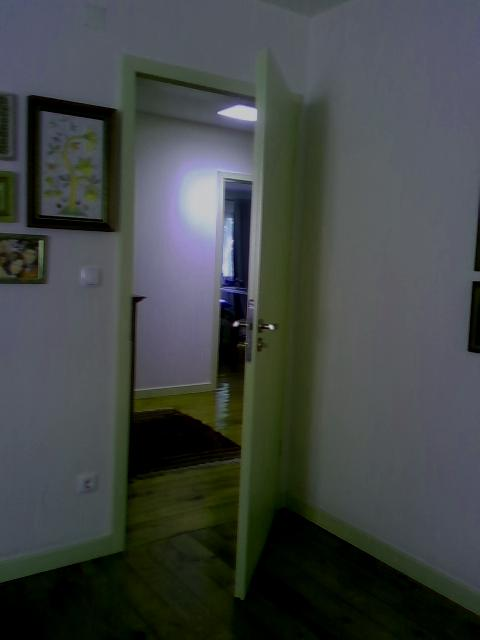semi_door: (115, 38, 308, 603)
